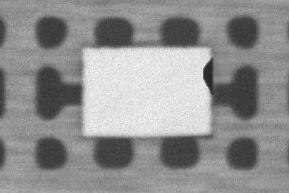DIE_BROKEN: (200, 58, 214, 94)
